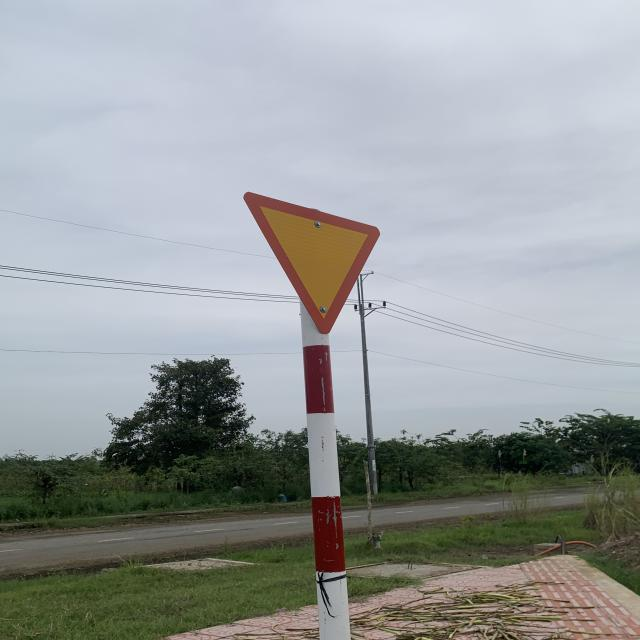Gioi_Han_Toc_Do_25: (242, 192, 382, 334)
